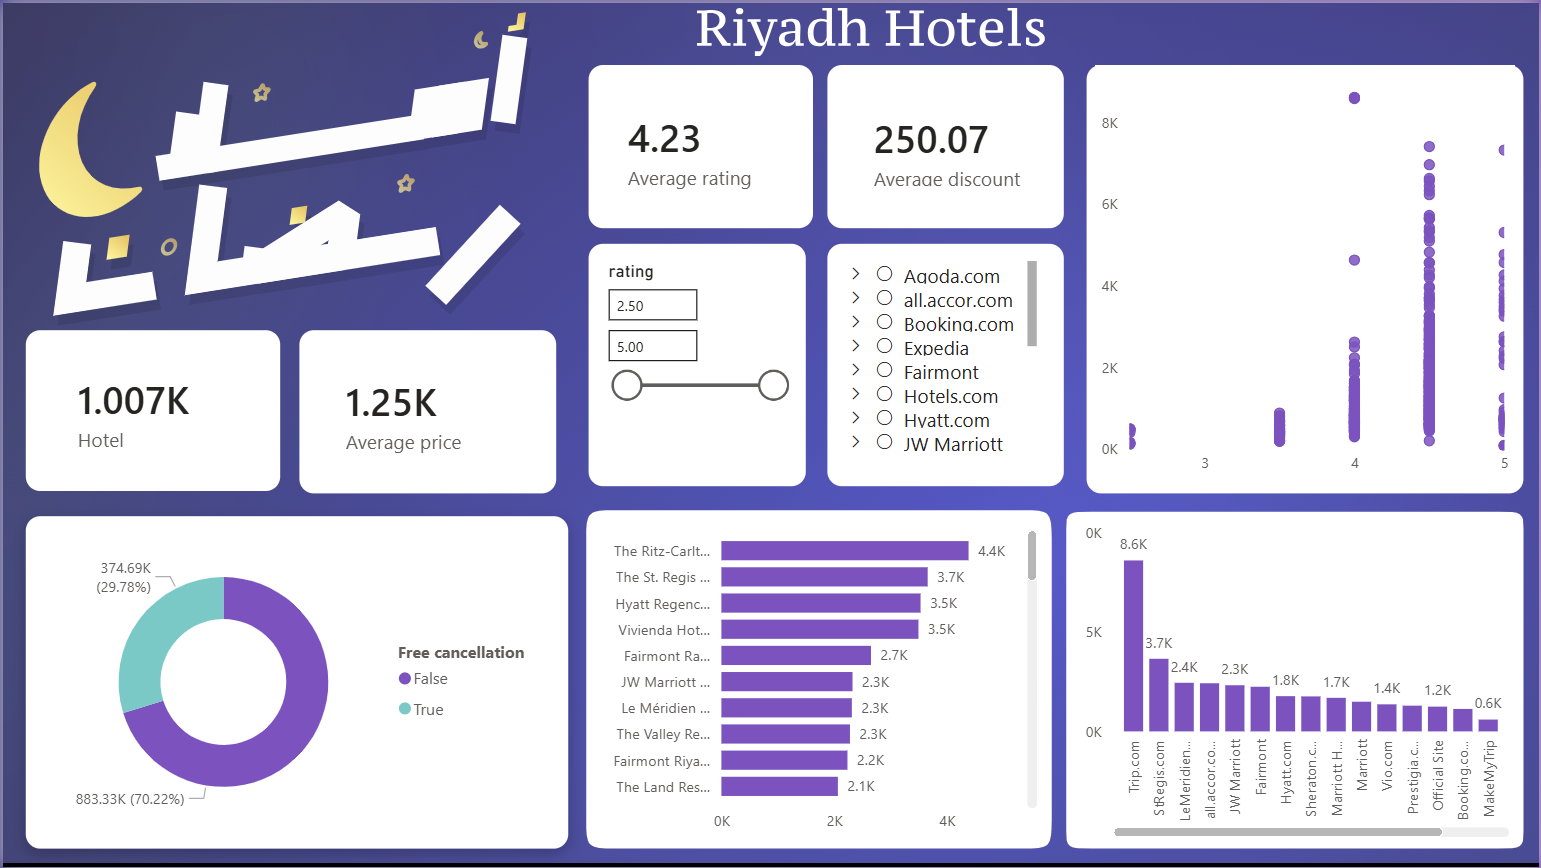

Layout of this report page (visuals, bound fields, positions):
{"tool":"powerbi","page":{"name":"Page 1","canvas":[1280,720],"ordinal":0},"visuals":[{"type":"cardVisual","fields":{"Data":["CountNonNull(Riyadh_Hotels.hotel_name)"]},"box":[33.3,283.3,180,116.7],"z":0},{"type":"cardVisual","fields":{"Data":["Avg(Riyadh_Hotels.price)"]},"box":[256.7,285,198.3,115],"z":1000},{"type":"cardVisual","fields":{"Data":["Avg(Riyadh_Hotels.rating)"]},"box":[491.7,63.3,171.7,118.3],"z":2000},{"type":"cardVisual","fields":{"Data":["Avg(Riyadh_Hotels.discount)"]},"box":[696.7,76.7,186.7,93.3],"z":3000},{"type":"barChart","fields":{"Category":["Riyadh_Hotels.hotel_name"],"Y":["Avg(Riyadh_Hotels.price)"]},"box":[491.7,426.7,375,273.3],"z":4000},{"type":"clusteredColumnChart","fields":{"Y":["Avg(Riyadh_Hotels.price)"],"Category":["Riyadh_Hotels.SOURCE"]},"box":[896.7,426.7,363.3,273.3],"z":5000},{"type":"scatterChart","fields":{"Y":["Riyadh_Hotels.price"],"X":["Riyadh_Hotels.rating"]},"box":[910,51.7,350,350],"z":6000},{"type":"listSlicer","fields":{"Values":["Riyadh_Hotels.SOURCE","Riyadh_Hotels.rating","Riyadh_Hotels.price"]},"box":[696.7,210,170,176.7],"z":8000},{"type":"donutChart","fields":{"Category":["Riyadh_Hotels.Free cancellation"],"Y":["Sum(Riyadh_Hotels.price)"]},"box":[33.3,431.7,421.7,268.3],"z":9000},{"type":"slicer","fields":{"Values":["Riyadh_Hotels.rating"]},"box":[491.7,210,171.7,176.7],"z":10000}]}

Visuals, with their boxes in screenshot pixels (x1, y1, x2, y2), scaled from the page's 1280x720 canvas onto the 1541x868 screenshot:
cardVisual - CountNonNull(Riyadh_Hotels.hotel_name): 40 342 257 482
cardVisual - Avg(Riyadh_Hotels.price): 309 344 548 482
cardVisual - Avg(Riyadh_Hotels.rating): 592 76 799 219
cardVisual - Avg(Riyadh_Hotels.discount): 839 92 1064 205
barChart - Riyadh_Hotels.hotel_name x Avg(Riyadh_Hotels.price): 592 514 1043 844
clusteredColumnChart - Avg(Riyadh_Hotels.price) x Riyadh_Hotels.SOURCE: 1080 514 1517 844
scatterChart - Riyadh_Hotels.price x Riyadh_Hotels.rating: 1096 62 1517 484
listSlicer - Riyadh_Hotels.SOURCE x Riyadh_Hotels.rating: 839 253 1043 466
donutChart - Riyadh_Hotels.Free cancellation x Sum(Riyadh_Hotels.price): 40 520 548 844
slicer - Riyadh_Hotels.rating: 592 253 799 466
